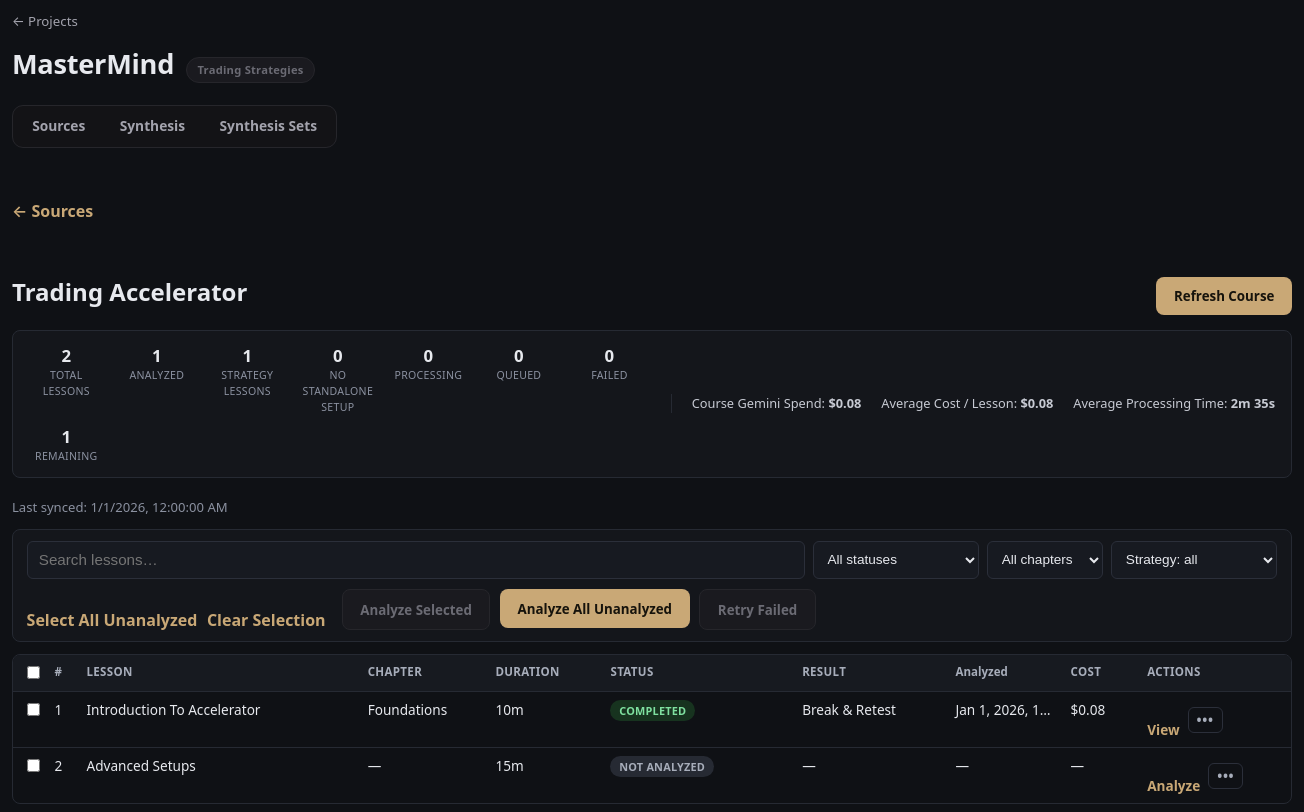
Test case: WhopCourseDetailPage — rich course management UI (Phase 4K follow-up) › 6: search filters the lesson list
Expected: the text "Advanced Setups" is shown, x1=86 y1=756 x2=196 y2=775
Step 1. Type "Advanced" into the search field labelled "Search lessons" → (416,560), box x1=27 y1=541 x2=805 y2=579
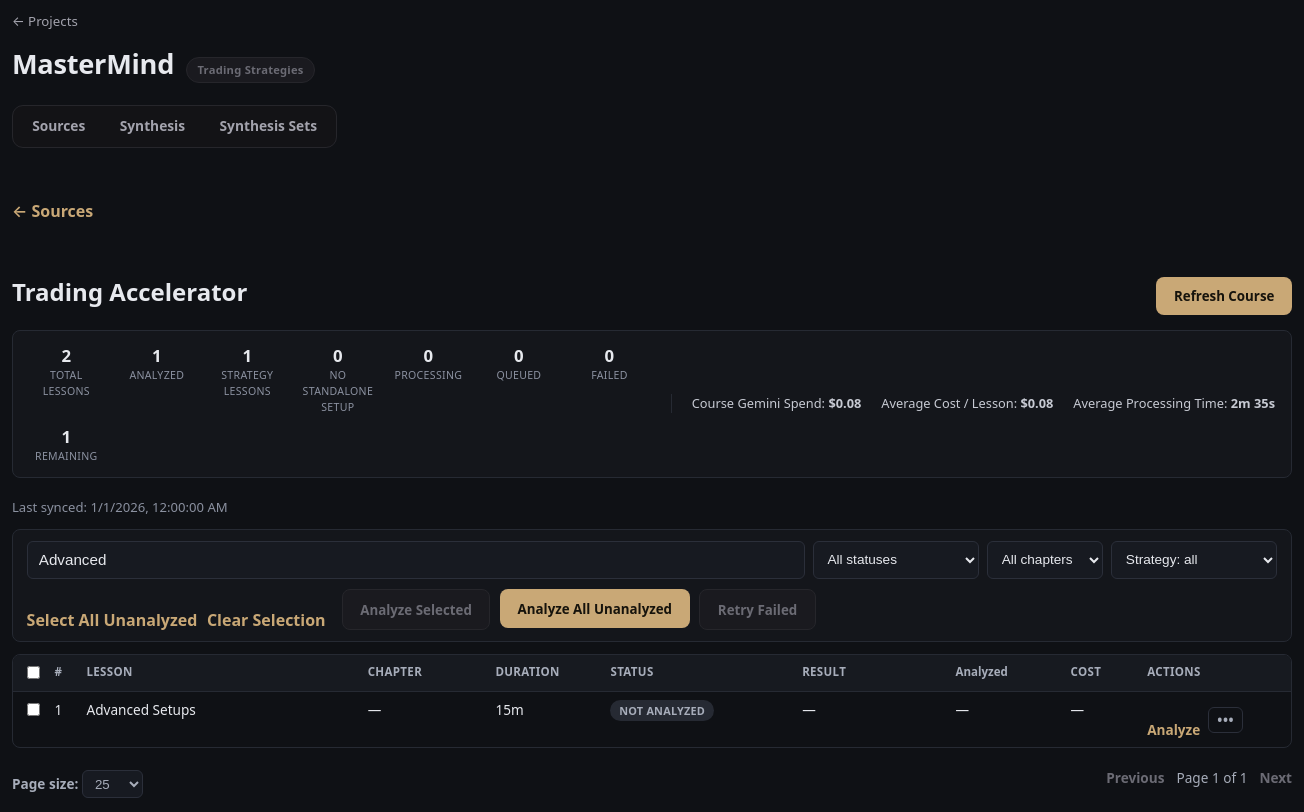
Expected: the text "Advanced Setups" is shown, x1=86 y1=700 x2=196 y2=719
Result: the text "Introduction To Accelerator" is gone
